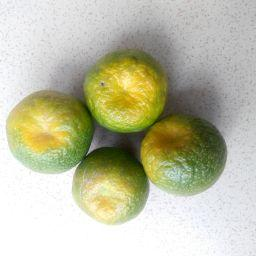orange: (81, 47, 170, 134), (5, 89, 95, 175), (140, 111, 228, 198), (71, 145, 150, 226)
